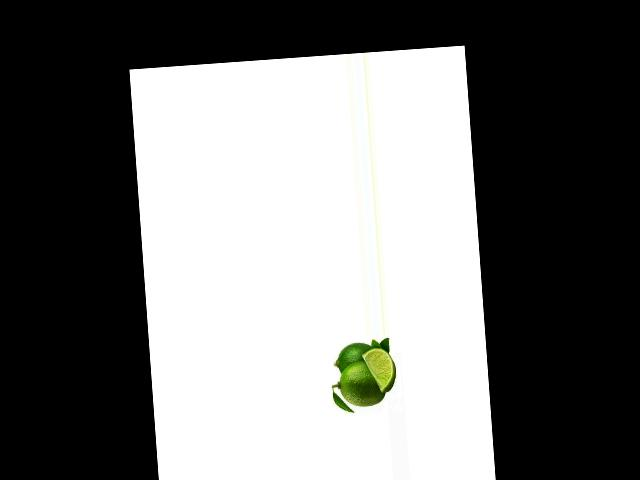lemon: (335, 361, 384, 409)
